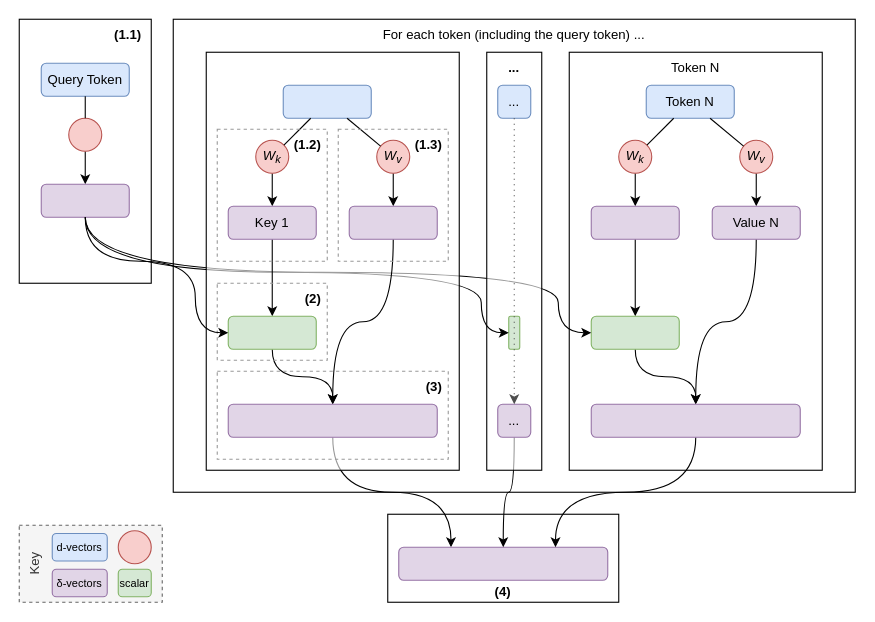
The diagram is 875 pixels wide and 622 high, and some of its shapes have lost their labels. The shapes that lost their labels are listed below. From the top down, each one's box as (x1, y1, x2, y2) in pixels, then its label:
(282, 84, 371, 118): Token
(68, 117, 102, 151): W q
(40, 183, 129, 217): Query
(348, 205, 437, 239): Value 1
(590, 205, 679, 239): Key N
(205, 51, 459, 470): Token 1
(227, 315, 316, 349): Weight 1
(590, 315, 679, 349): Weight N
(227, 403, 437, 437): Weighted Value 1
(590, 403, 800, 437): Weighted Value N
(117, 530, 151, 564): d × δ
(398, 546, 608, 580): Context Vector
